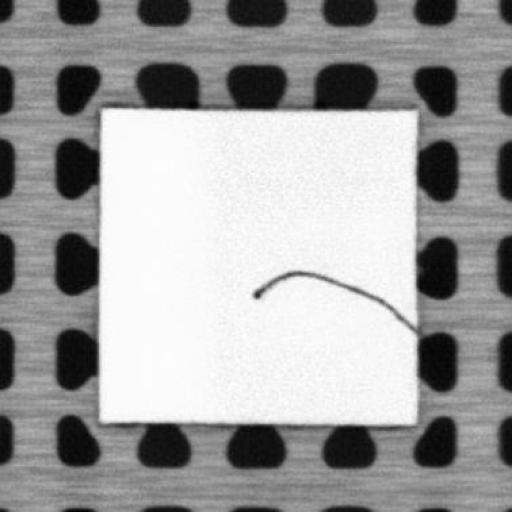DIE_INK: (249, 268, 413, 328)
